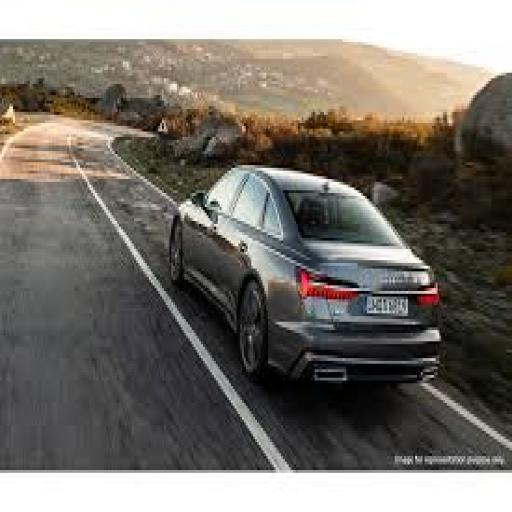car: (158, 135, 470, 411)
